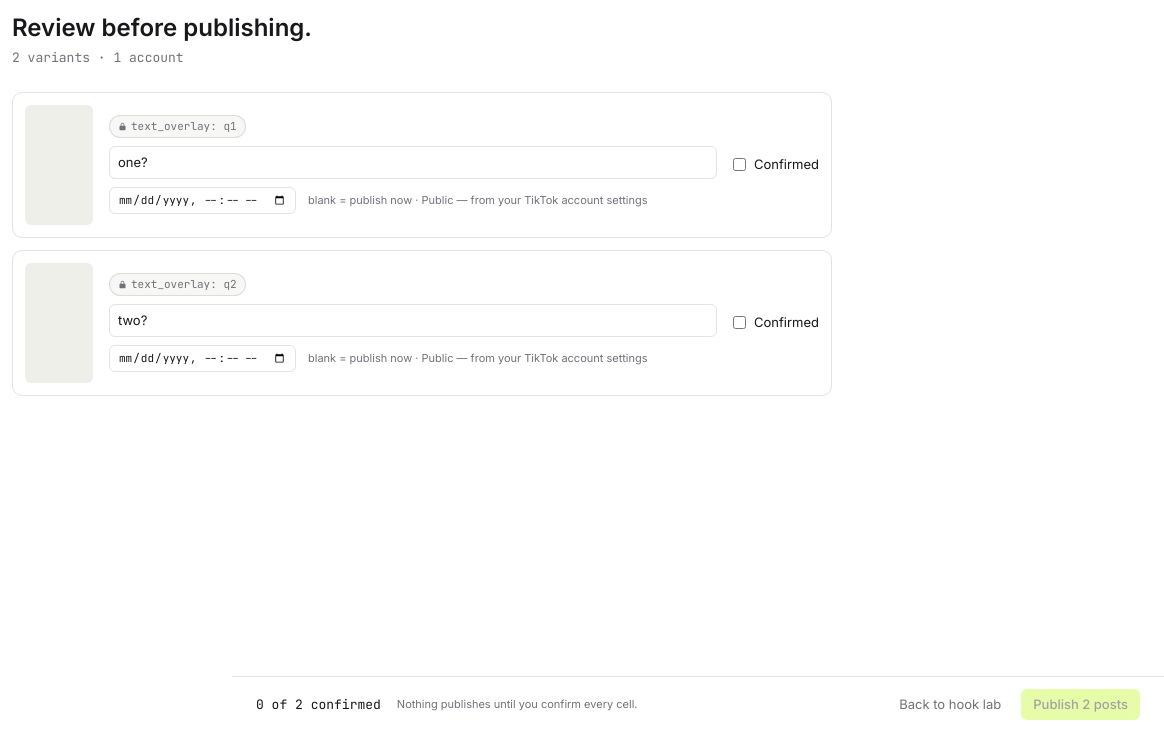
Scenario: publish failure shows an error and keeps the draft
The width and height of the screenshot is (1164, 732).
Click the 1st checkbox labelled "Confirmed": (740, 164) [733, 158, 746, 171]
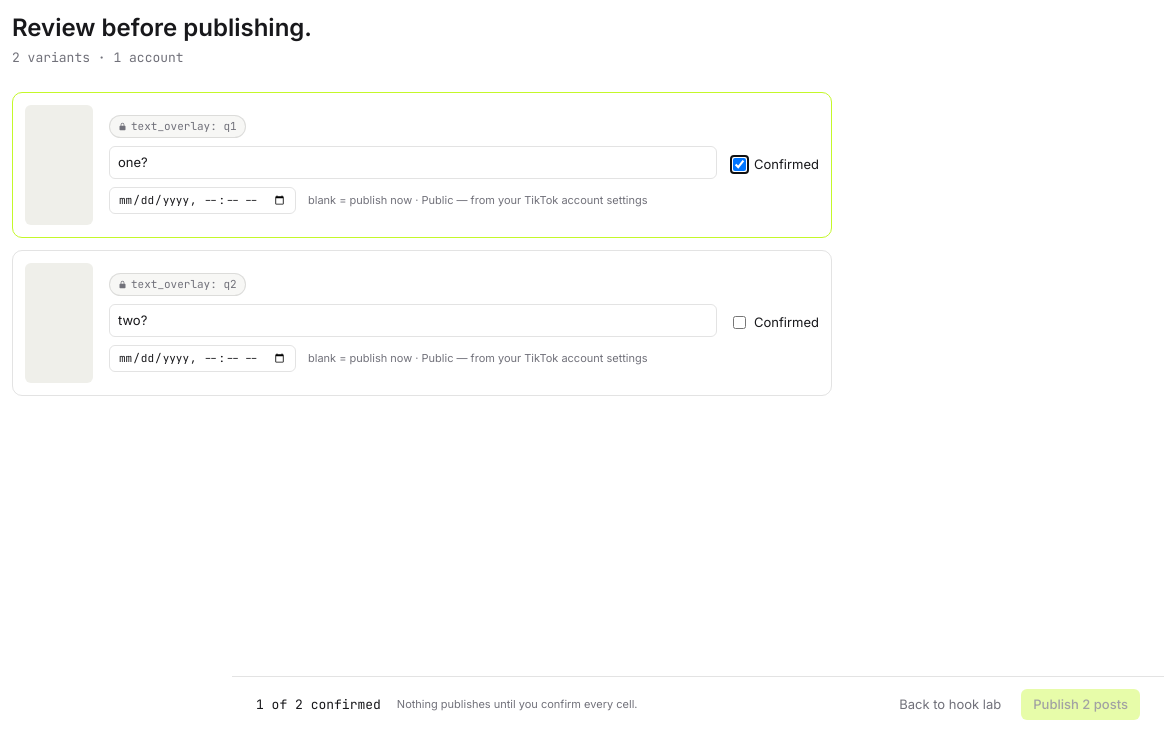
Click the 2nd checkbox labelled "Confirmed": (740, 322) [733, 316, 746, 329]
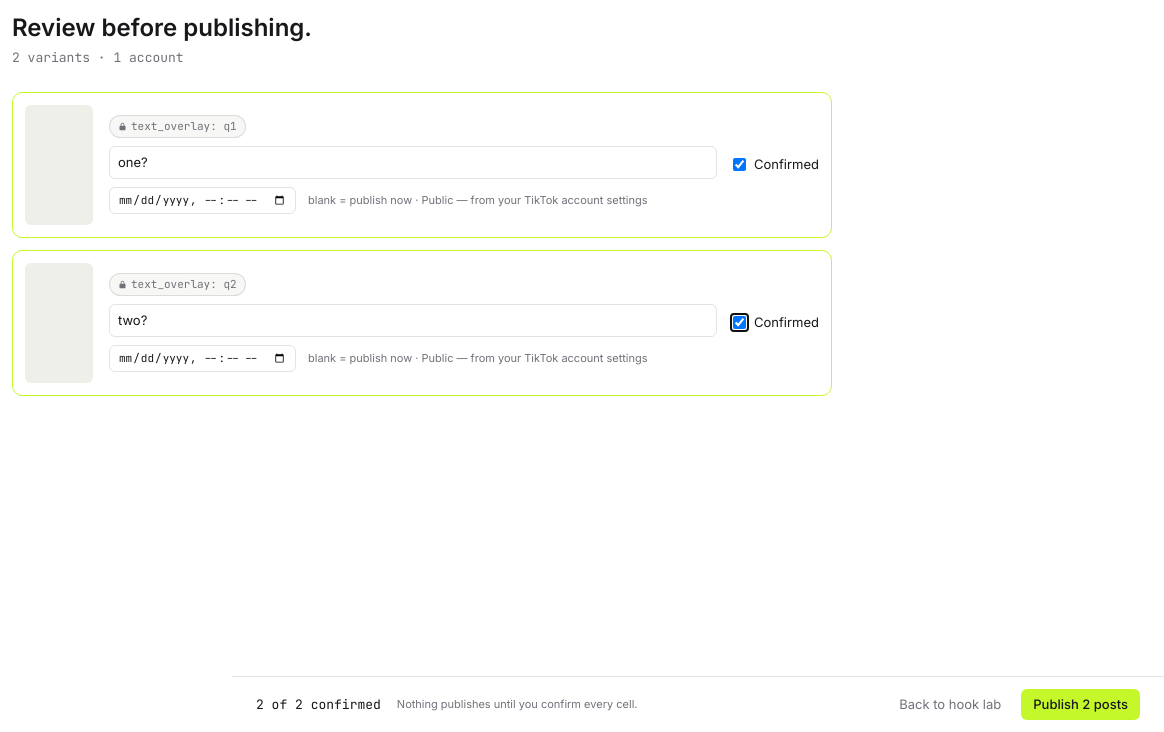
Click the button "Publish 2 posts": (1081, 704) [1021, 688, 1140, 720]
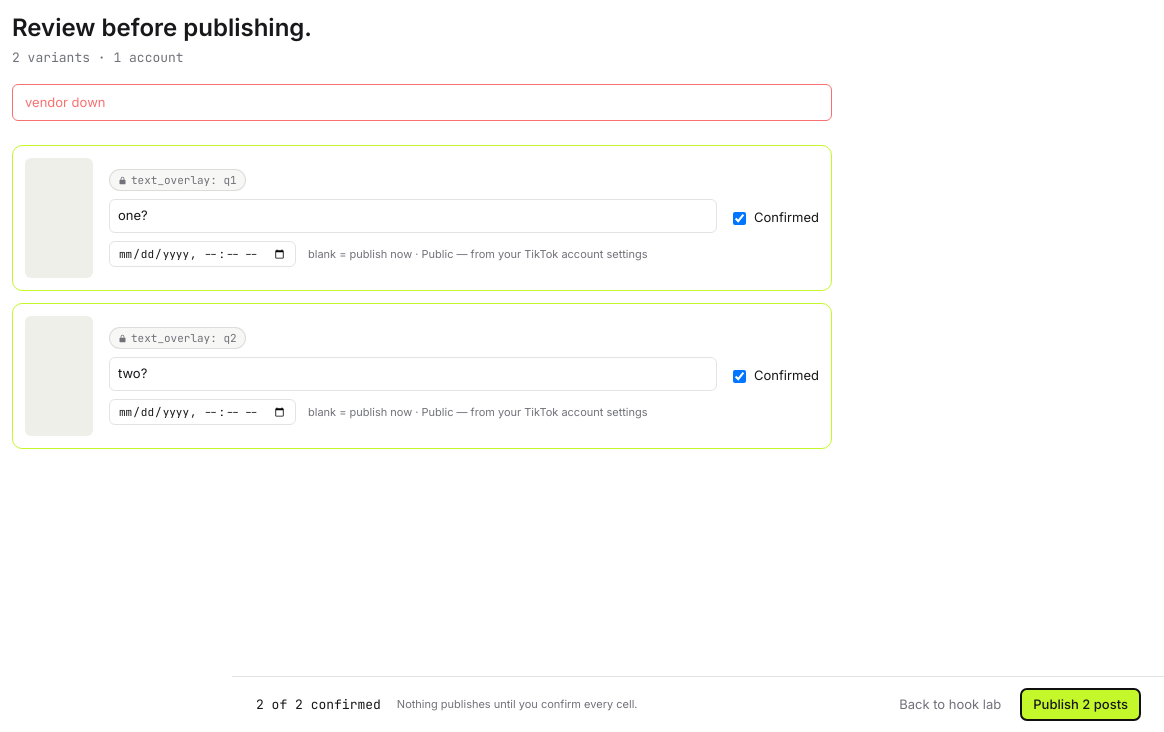
Now the text "vendor down" is shown, box [12, 84, 832, 121]
